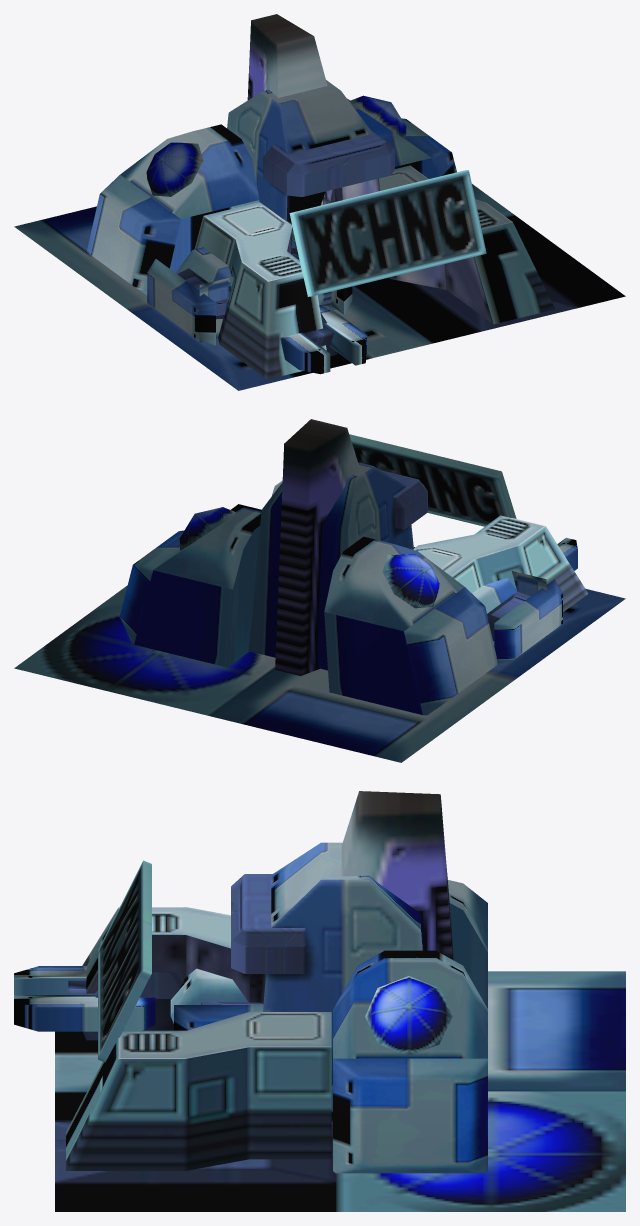
The model's file is datan_common_gmb12_3cf77de9.obj.
The picture shows the model from 3 angles, top to bottom: view 1: azimuth 30°, elevation 25°; view 2: azimuth 150°, elevation 25°; view 3: azimuth 270°, elevation 25°; orthographic projection. The views are drawn at different scales.
Visible parts, largest first — view 1: datan_common_gmb12_3cf77de9_mesh00, datan_common_gmb12_3cf77de9_mesh01, datan_common_gmb12_3cf77de9_mesh02, datan_common_gmb12_3cf77de9_mesh06; view 2: datan_common_gmb12_3cf77de9_mesh00, datan_common_gmb12_3cf77de9_mesh01, datan_common_gmb12_3cf77de9_mesh02, datan_common_gmb12_3cf77de9_mesh06; view 3: datan_common_gmb12_3cf77de9_mesh00, datan_common_gmb12_3cf77de9_mesh01, datan_common_gmb12_3cf77de9_mesh02.
Boxes of the visible parts, x1,y1,x2,y2 form: datan_common_gmb12_3cf77de9_mesh00: [86, 14, 554, 379]; datan_common_gmb12_3cf77de9_mesh01: [14, 184, 625, 390]; datan_common_gmb12_3cf77de9_mesh02: [147, 230, 367, 374]; datan_common_gmb12_3cf77de9_mesh06: [199, 276, 335, 342]; datan_common_gmb12_3cf77de9_mesh00: [119, 419, 588, 715]; datan_common_gmb12_3cf77de9_mesh01: [14, 504, 625, 762]; datan_common_gmb12_3cf77de9_mesh02: [472, 537, 577, 665]; datan_common_gmb12_3cf77de9_mesh06: [413, 547, 546, 636]; datan_common_gmb12_3cf77de9_mesh00: [66, 791, 487, 1173]; datan_common_gmb12_3cf77de9_mesh01: [55, 971, 625, 1211]; datan_common_gmb12_3cf77de9_mesh02: [14, 966, 263, 1040].
Bounding box in the file's own units: 18.63 × 10.27 × 20.03.
Materials: 1 (1 with a texture image).
